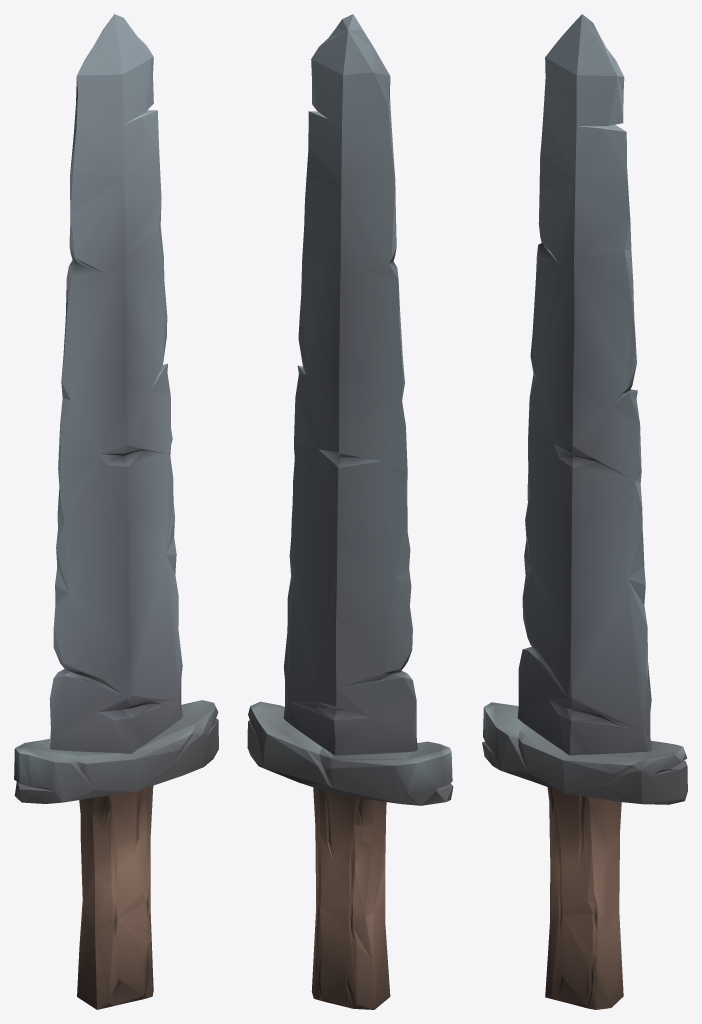
File: basic_sword2(long).fbx
3 renders of one model, left to right at view 1: azimuth 30°, elevation 25°; view 2: azimuth 150°, elevation 25°; view 3: azimuth 330°, elevation 25°, orthographic.
Visible parts, largest first — view 1: basic_sword02; view 2: basic_sword02; view 3: basic_sword02.
Boxes of the visible parts, x1=… form: basic_sword02: x1=14, y1=14, x2=218, y2=1009; basic_sword02: x1=247, y1=14, x2=453, y2=1009; basic_sword02: x1=482, y1=14, x2=687, y2=1009.
Bounding box in the file's own units: 0.2843 × 1.34 × 0.1001.
